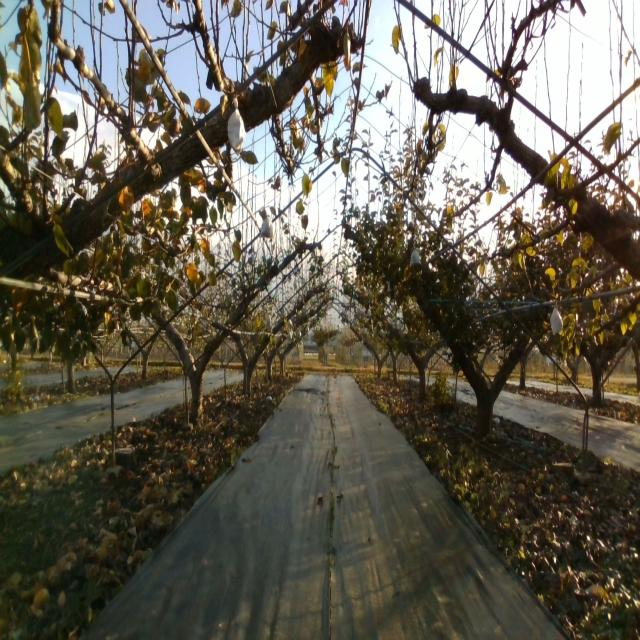pearbags: (227, 99, 246, 157), (260, 214, 275, 240), (551, 307, 563, 335), (410, 248, 422, 268)
